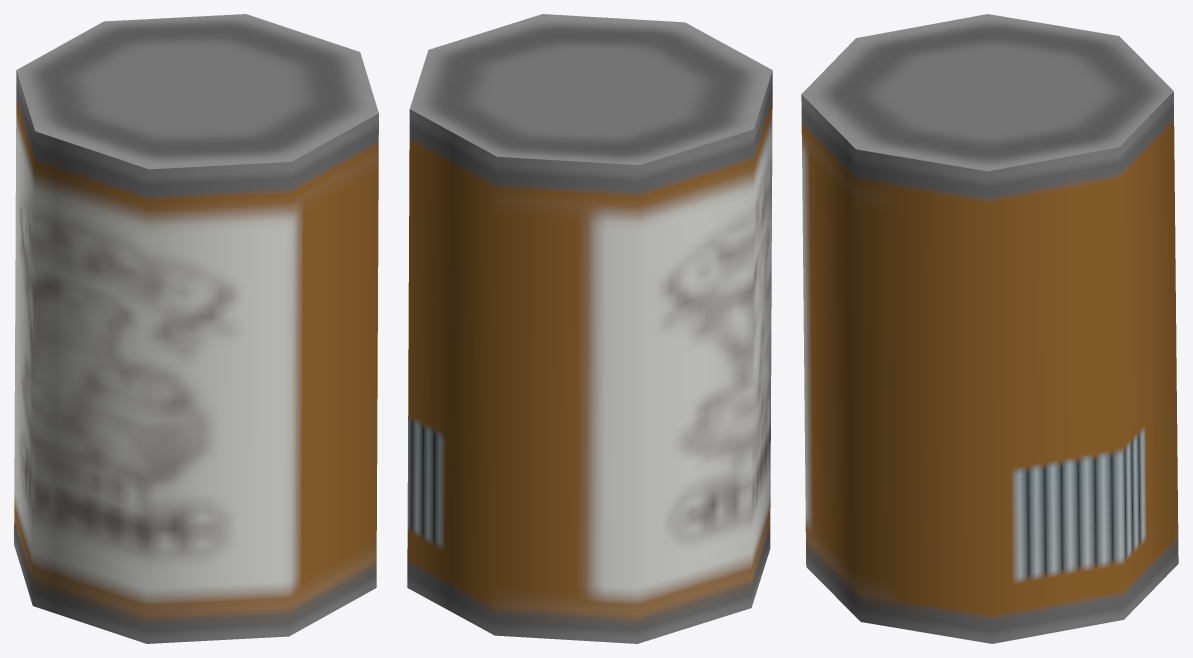
Rendered from AL_DulceLeche.fbx.
3 renders of one model, left to right at view 1: azimuth 30°, elevation 25°; view 2: azimuth 150°, elevation 25°; view 3: azimuth 270°, elevation 25°, orthographic.
Visible parts, largest first — view 1: MyObj; view 2: MyObj; view 3: MyObj.
Part boxes in pixels (x1=…): MyObj: x1=14, y1=14, x2=378, y2=643; MyObj: x1=407, y1=14, x2=772, y2=643; MyObj: x1=801, y1=14, x2=1178, y2=643.
Size of the model in its own units: 0.127 by 0.1768 by 0.1254.
